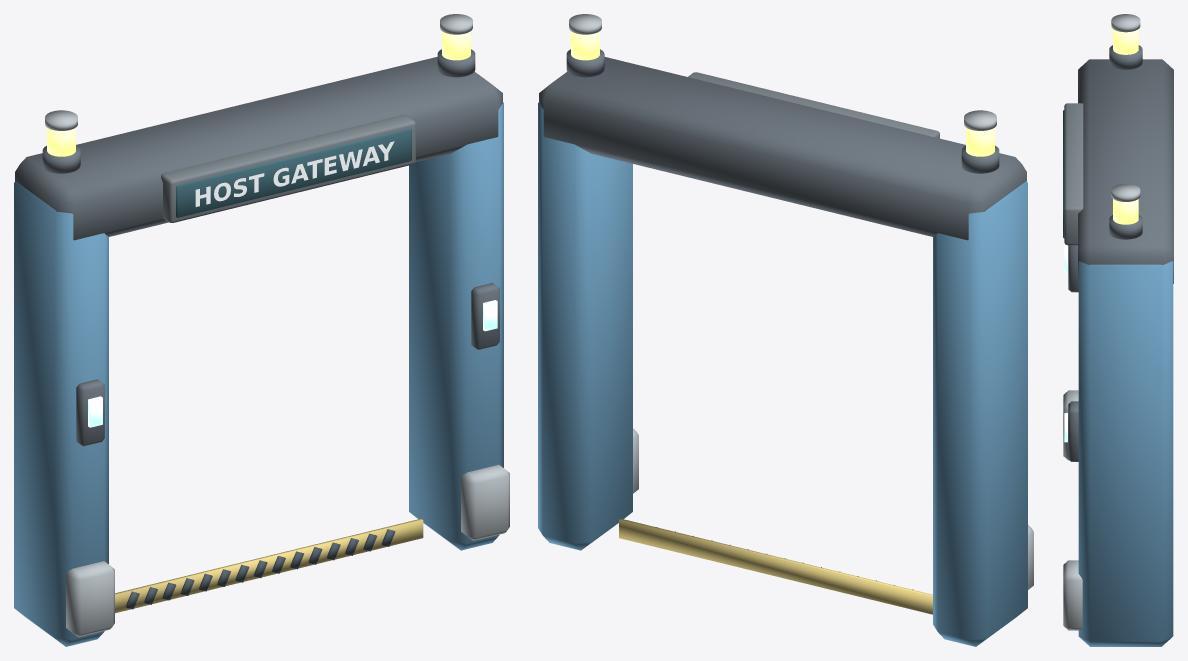
The model's file is host_gateway_ultra.glb.
3 views of the same model, side by side, from view 1: azimuth 30°, elevation 25°; view 2: azimuth 150°, elevation 25°; view 3: azimuth 270°, elevation 25° (orthographic). The views are drawn at different scales.
Visible parts, largest first — view 1: Pillar_blue_legacy_0, Header_dark_legacy_4, Footing_steel_legacy_11, SignPlate_glass, ScreenMount_frame, Detail_yellow_legacy_9, AccessPanel_dark_legacy_12, Detail_black_legacy_10, TypeLabel_white, StatusLight_warn_legacy_2, Beacon_dark_legacy_1, Beacon_steel_legacy_3 (+1 smaller); view 2: Pillar_blue_legacy_0, Header_dark_legacy_4, Detail_yellow_legacy_9, ScreenMount_frame, StatusLight_warn_legacy_2, Beacon_dark_legacy_1, Beacon_steel_legacy_3, Footing_steel_legacy_11; view 3: Pillar_blue_legacy_0, Header_dark_legacy_4, ScreenMount_frame, Footing_steel_legacy_11, StatusLight_warn_legacy_2, Beacon_dark_legacy_1, AccessPanel_dark_legacy_12, Beacon_steel_legacy_3, SignPlate_glass, StatusLight_glow_legacy_13.
Boxes of the visible parts, x1,y1,x2,y2 form: Pillar_blue_legacy_0: (14,102,503,646); Header_dark_legacy_4: (15,56,502,240); Footing_steel_legacy_11: (66,464,509,637); SignPlate_glass: (176,128,411,217); ScreenMount_frame: (161,115,415,222); Detail_yellow_legacy_9: (115,518,423,613); AccessPanel_dark_legacy_12: (76,283,499,446); Detail_black_legacy_10: (125,529,395,609); TypeLabel_white: (195,141,394,206); StatusLight_warn_legacy_2: (47,31,470,156); Beacon_dark_legacy_1: (42,49,475,173); Beacon_steel_legacy_3: (45,14,472,130); Pillar_blue_legacy_0: (538,102,1027,646); Header_dark_legacy_4: (539,57,1026,240); Detail_yellow_legacy_9: (619,518,932,614); ScreenMount_frame: (688,72,939,138); StatusLight_warn_legacy_2: (571,31,994,156); Beacon_dark_legacy_1: (566,49,999,173); Beacon_steel_legacy_3: (569,14,996,130); Footing_steel_legacy_11: (633,428,1033,589); Pillar_blue_legacy_0: (1078,261,1173,646); Header_dark_legacy_4: (1078,59,1173,283); ScreenMount_frame: (1064,103,1083,245); Footing_steel_legacy_11: (1063,390,1082,630); StatusLight_warn_legacy_2: (1113,29,1138,224); Beacon_dark_legacy_1: (1109,45,1142,239); AccessPanel_dark_legacy_12: (1068,245,1078,461); Beacon_steel_legacy_3: (1111,14,1140,201); SignPlate_glass: (1063,110,1064,238); StatusLight_glow_legacy_13: (1064,243,1067,442).
Bounding box in the file's own units: 3.14 × 3.41 × 0.769.
